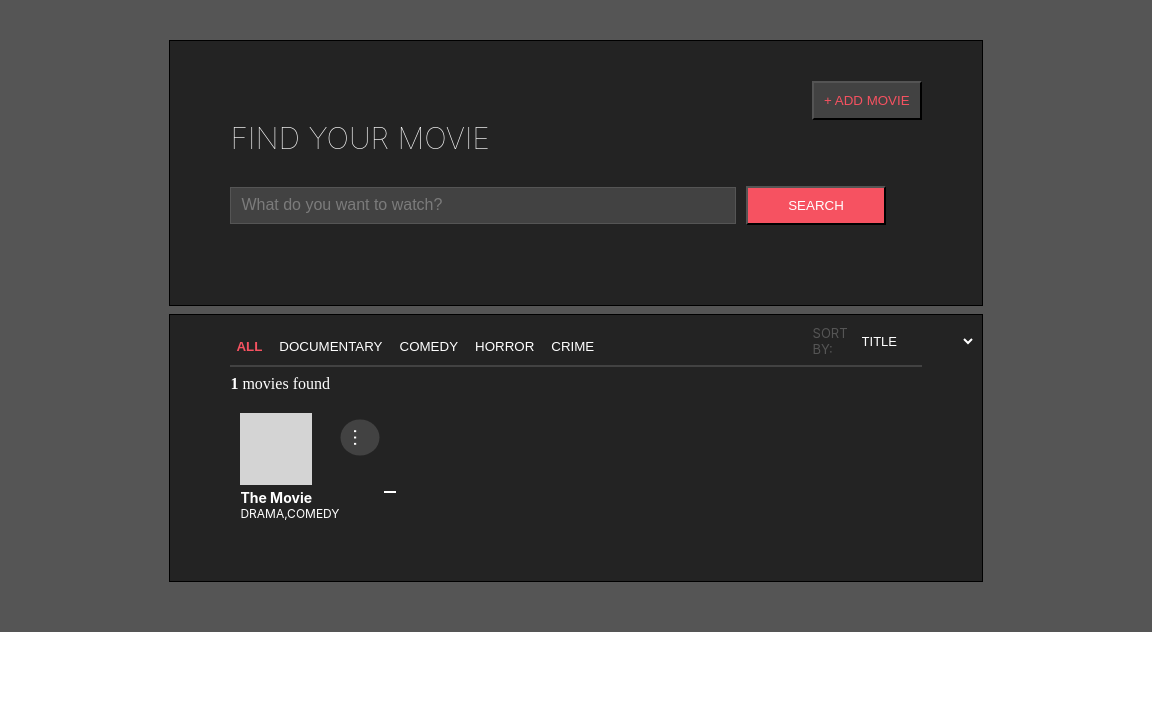
Test case: MovieList page E2E testing › should navigate to the movie details when clicking tile
This screenshot has width=1152, height=720.
Click the element with class "movie-tile". click: (319, 467)
box: [230,403,408,531]
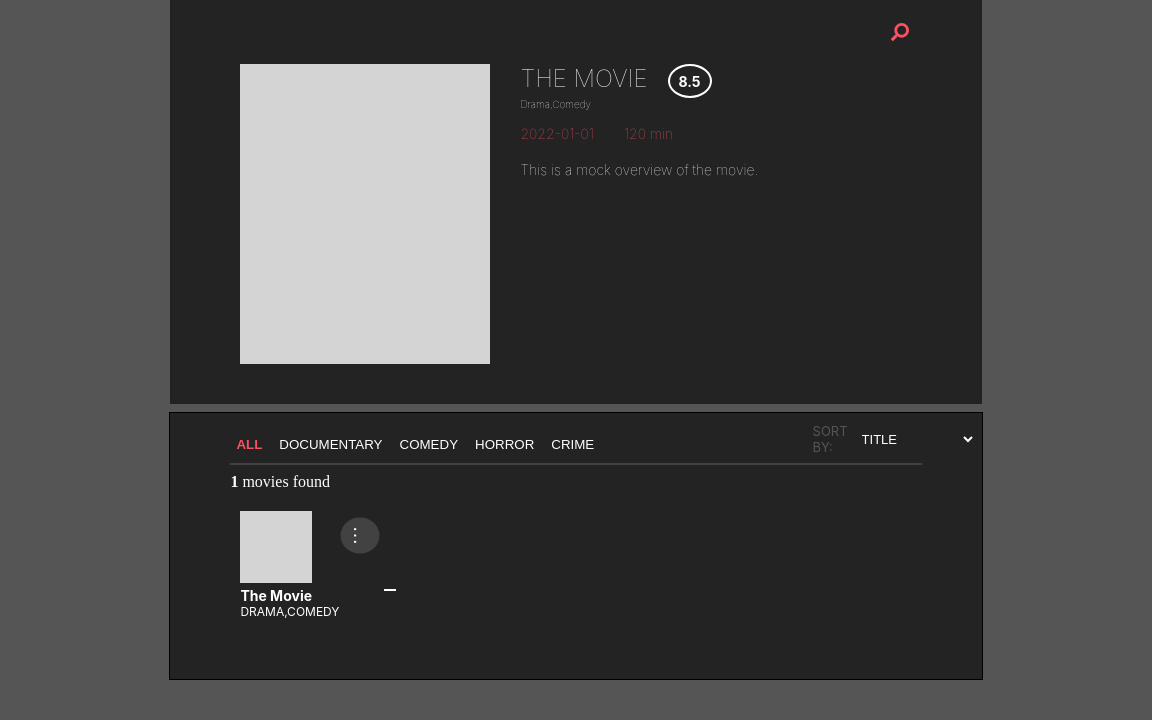
Check: the text with class "movie-detail-name" reads "The Movie", box [520,64,647,93]
Check: the text with class "movie-detail-rating" reads "8.5", box [678,73,700,90]
Check: the text with class "movie-detail-genres" reads "Drama,Comedy", box [520,98,590,110]
